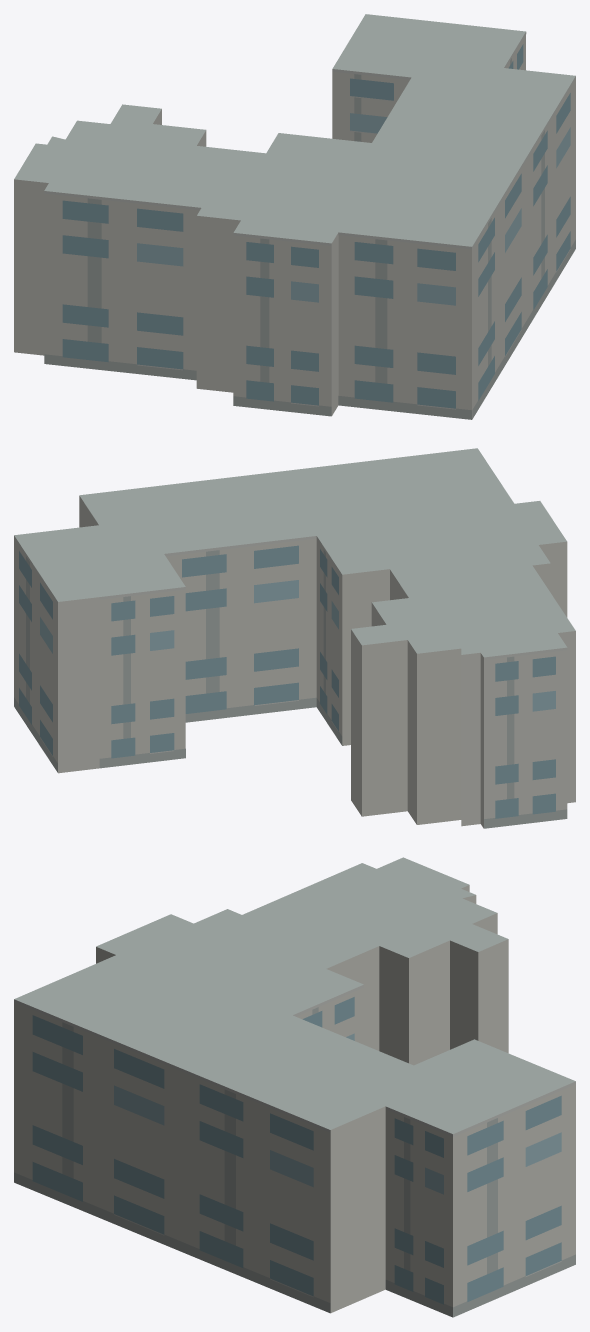
Rendered from residential-80035fa0-517c-4666-99a5-280f25f944b5.glb.
3 views of the same model, one above another, from view 1: azimuth 30°, elevation 25°; view 2: azimuth 150°, elevation 25°; view 3: azimuth 270°, elevation 25° (orthographic). The views are drawn at different scales.
Parts seen in each view (by area): view 1: residential-80035fa0-517c-4666-99a5-280f25f944b5.tmp; view 2: residential-80035fa0-517c-4666-99a5-280f25f944b5.tmp; view 3: residential-80035fa0-517c-4666-99a5-280f25f944b5.tmp.
Part boxes in pixels (x1,y1,x2,y2): residential-80035fa0-517c-4666-99a5-280f25f944b5.tmp: (14, 14, 575, 419); residential-80035fa0-517c-4666-99a5-280f25f944b5.tmp: (14, 448, 575, 828); residential-80035fa0-517c-4666-99a5-280f25f944b5.tmp: (14, 857, 575, 1317).
Size of the model in its own units: 49.4 by 15.25 by 42.37.
